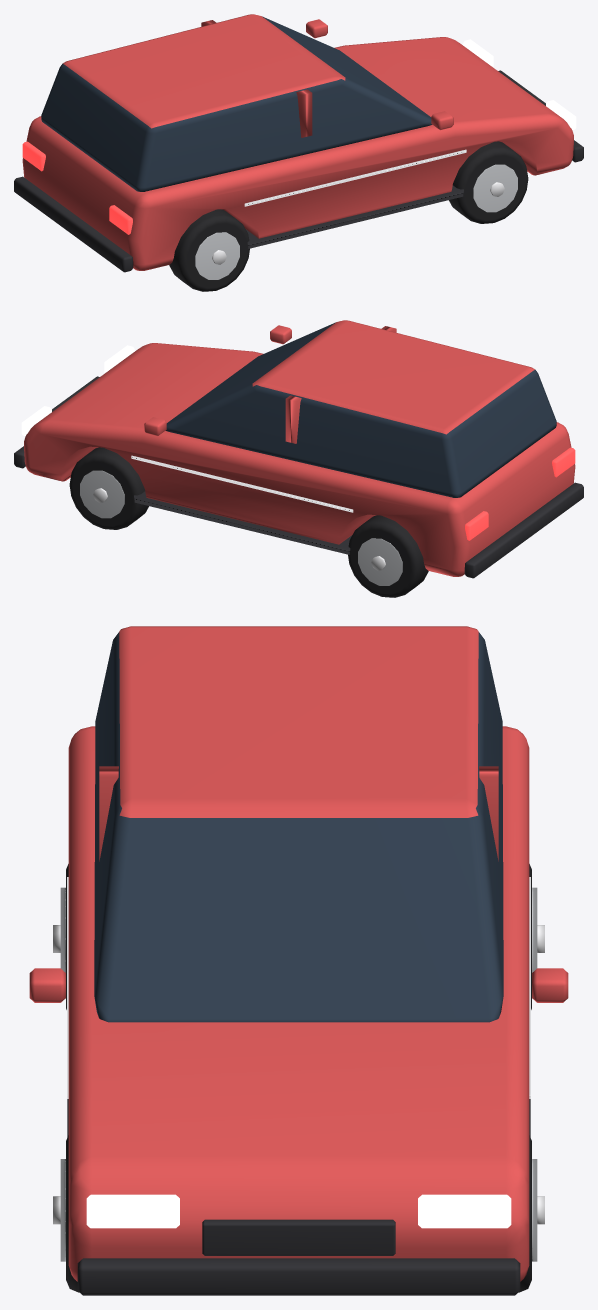
Rendered from rc-hatch.glb.
3 renders of one model, top to bottom at view 1: azimuth 30°, elevation 25°; view 2: azimuth 150°, elevation 25°; view 3: azimuth 270°, elevation 25°, orthographic. The views are drawn at different scales.
Parts seen in each view (by area): view 1: car_hatch; view 2: car_hatch; view 3: car_hatch.
Part boxes in pixels (bbox=[...]): car_hatch: bbox=[14, 14, 583, 291]; car_hatch: bbox=[14, 320, 583, 597]; car_hatch: bbox=[29, 626, 568, 1295].
Bounding box in the file's own units: 4.12 × 1.47 × 2.08.
